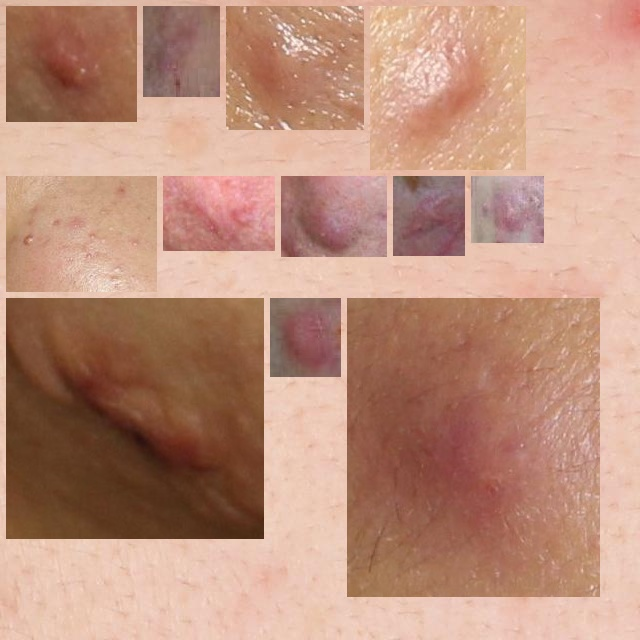nodule: (355, 306, 592, 589), (14, 306, 256, 531), (378, 14, 518, 162), (14, 184, 149, 284), (234, 14, 356, 122), (14, 14, 129, 114), (289, 184, 379, 249), (171, 184, 267, 243), (151, 14, 212, 89), (401, 184, 457, 248), (278, 306, 333, 369), (479, 184, 536, 235)
